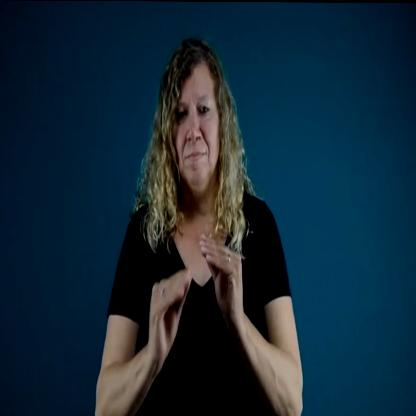Fix: (92, 34, 303, 416)
